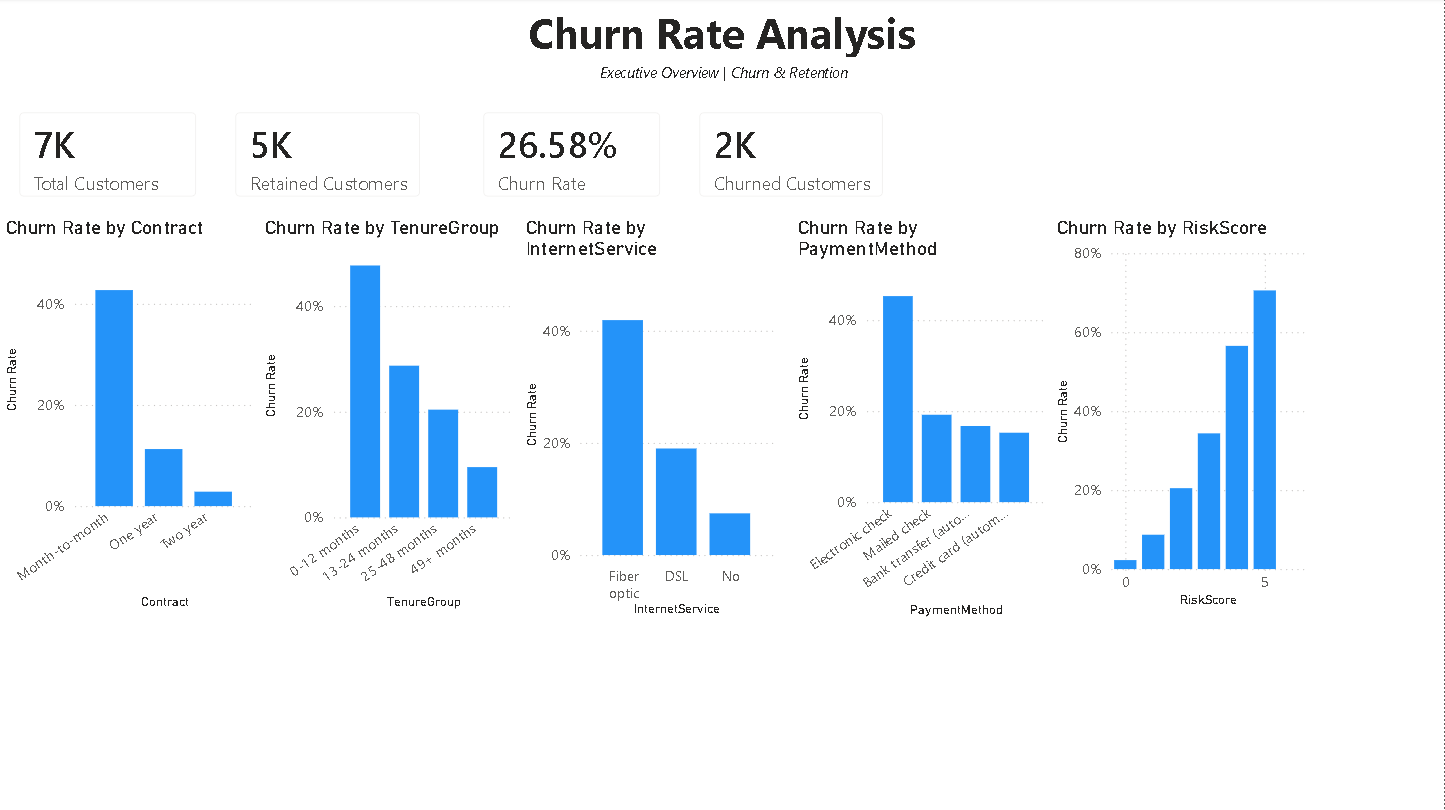

This screenshot's page, from the dashboard's own definition file:
{"tool":"powerbi","page":{"name":"Page 1","canvas":[1280,720],"ordinal":0},"visuals":[{"type":"cardVisual","fields":{"Data":["Data.Total Customers"]},"box":[0,84.3,191.2,109.1],"z":0},{"type":"cardVisual","fields":{"Data":["Data.Churned Customers"]},"box":[602.7,84.3,197.7,109.1],"z":1000},{"type":"cardVisual","fields":{"Data":["Data.Churn Rate"]},"box":[411.5,84.3,191.2,109.1],"z":2000},{"type":"cardVisual","fields":{"Data":["Data.Retained Customers"]},"box":[191.2,84.3,198.8,109.1],"z":3000},{"type":"clusteredColumnChart","fields":{"Category":["Data.Contract"],"Y":["Data.Churn Rate"]},"box":[0,193.4,230.1,353.2],"z":4000},{"type":"clusteredColumnChart","fields":{"Category":["Data.TenureGroup"],"Y":["Data.Churn Rate"]},"box":[230.1,193.4,231.2,353.2],"z":5000},{"type":"clusteredColumnChart","fields":{"Category":["Data.PaymentMethod"],"Y":["Data.Churn Rate"]},"box":[702.1,193.4,230.1,359.7],"z":6000},{"type":"clusteredColumnChart","fields":{"Category":["Data.InternetService"],"Y":["Data.Churn Rate"]},"box":[461.2,193.4,230.1,358.6],"z":7000},{"type":"clusteredColumnChart","fields":{"Y":["Data.Churn Rate"],"Category":["Data.RiskScore"]},"box":[932.2,193.4,231.2,351.1],"z":8000},{"type":"textbox","box":[0,0,1280,60],"z":8001},{"type":"textbox","box":[0,52.5,1280,31],"z":8002}]}

Visuals, with their boxes in screenshot pixels (x1, y1, x2, y2), scaled from the page's 1280x720 canvas onto the 1445x810 screenshot:
cardVisual - Data.Total Customers: bbox(0, 95, 216, 218)
cardVisual - Data.Churned Customers: bbox(680, 95, 904, 218)
cardVisual - Data.Churn Rate: bbox(465, 95, 680, 218)
cardVisual - Data.Retained Customers: bbox(216, 95, 440, 218)
clusteredColumnChart - Data.Contract x Data.Churn Rate: bbox(0, 218, 260, 615)
clusteredColumnChart - Data.TenureGroup x Data.Churn Rate: bbox(260, 218, 521, 615)
clusteredColumnChart - Data.PaymentMethod x Data.Churn Rate: bbox(793, 218, 1052, 622)
clusteredColumnChart - Data.InternetService x Data.Churn Rate: bbox(521, 218, 780, 621)
clusteredColumnChart - Data.Churn Rate x Data.RiskScore: bbox(1052, 218, 1313, 613)
textbox: bbox(0, 0, 1444, 68)
textbox: bbox(0, 59, 1444, 94)
